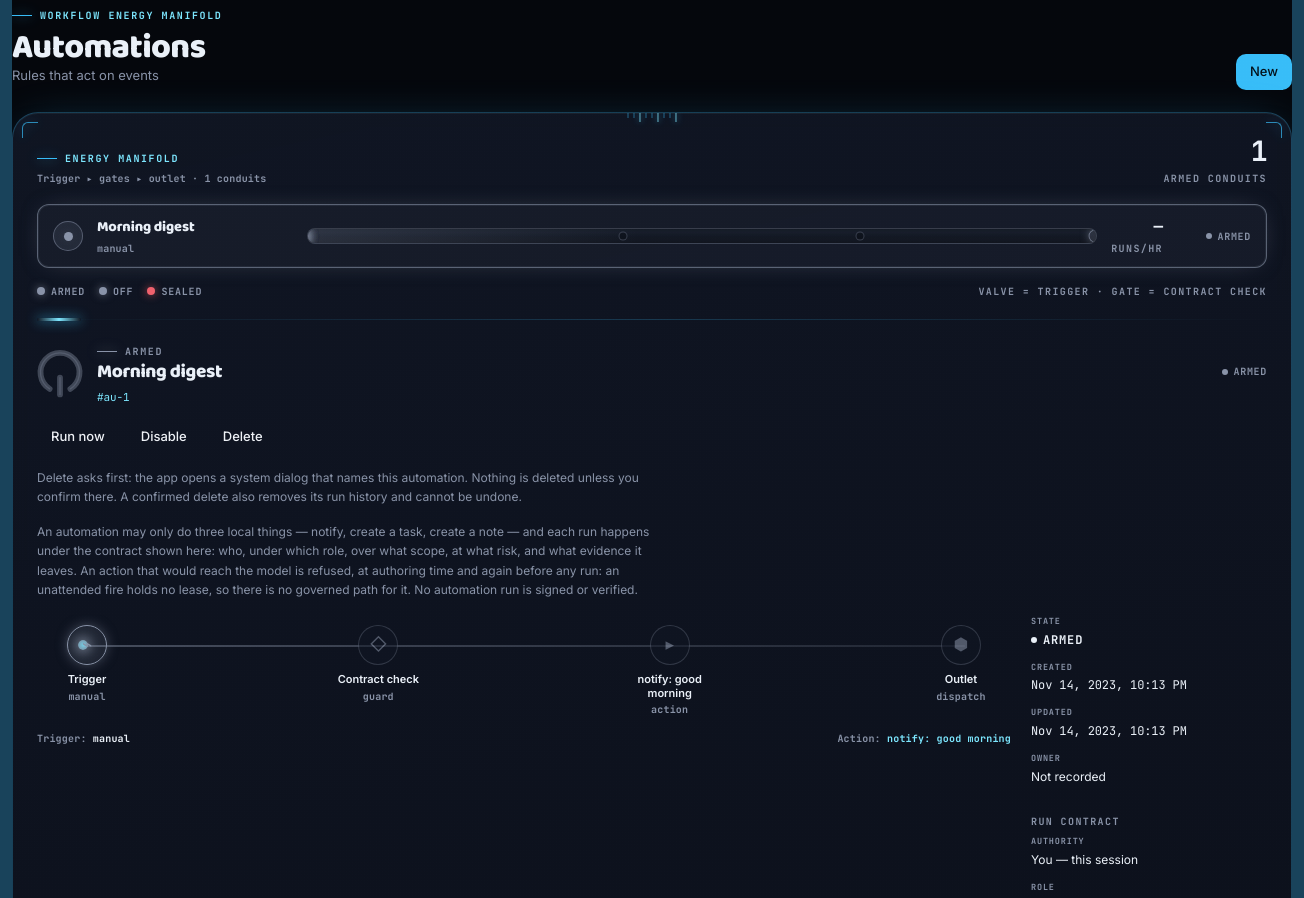
an allowed run carries a contract, and the history says what is known › a run that simply broke is not written into the history as a refusal
Expected: the text "Morning digest" is shown, [97,215,194,239]
Click the button "Run now" at point(78, 437), box [37,419,119,455]
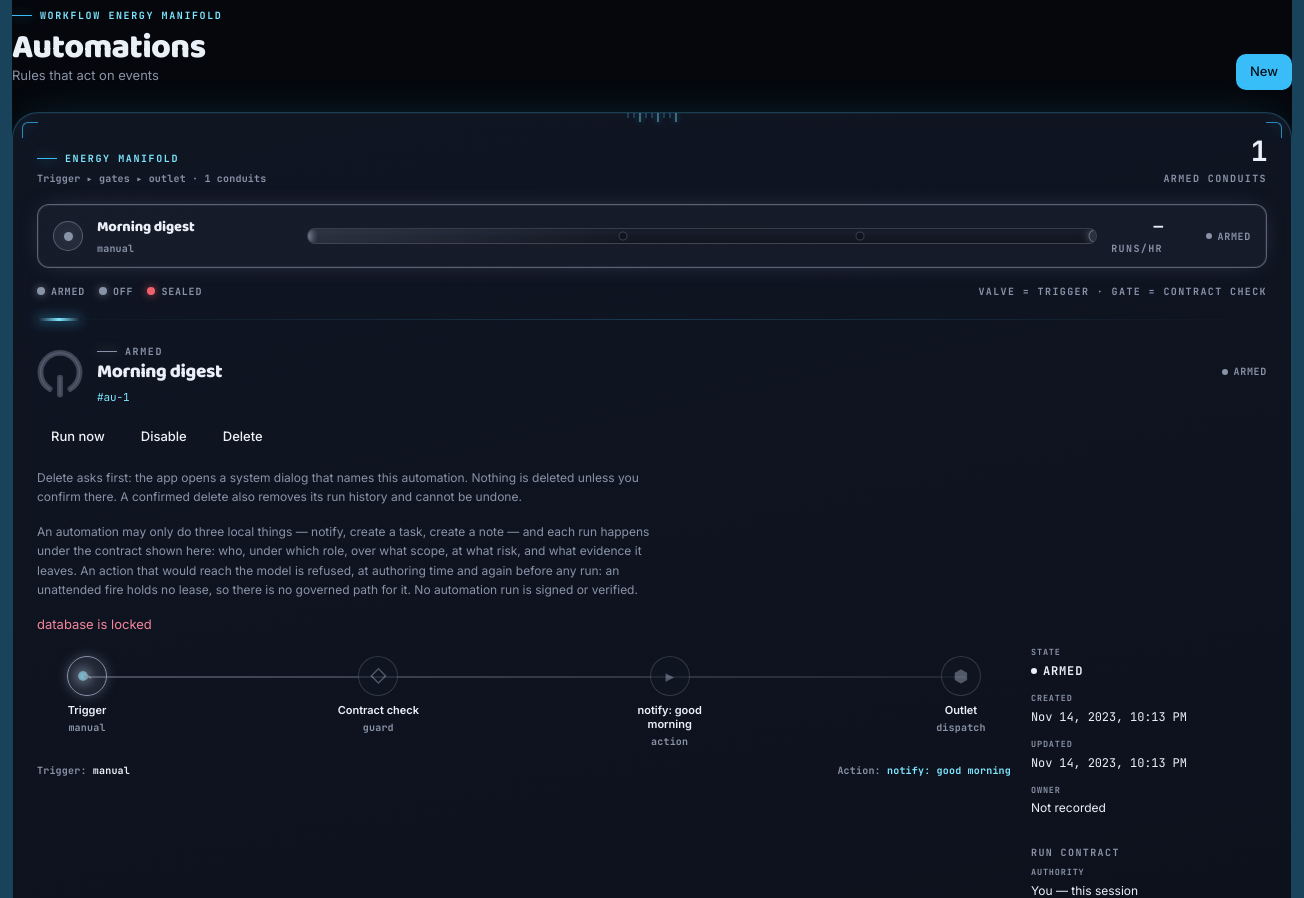
Expected: the text "database is locked" is shown, [37,616,152,632]
